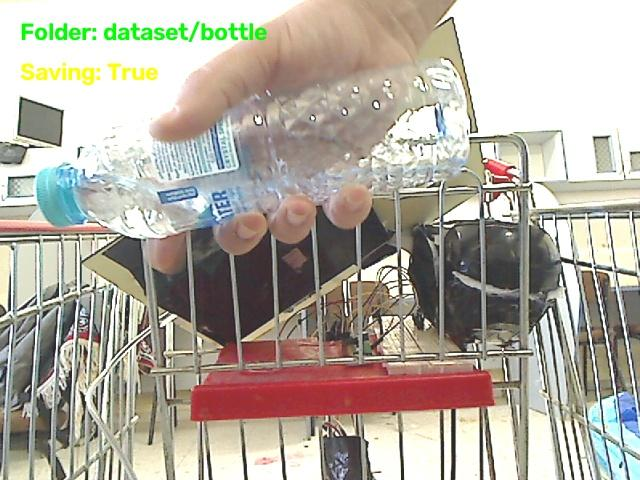Bottle: (37, 60, 468, 237)
